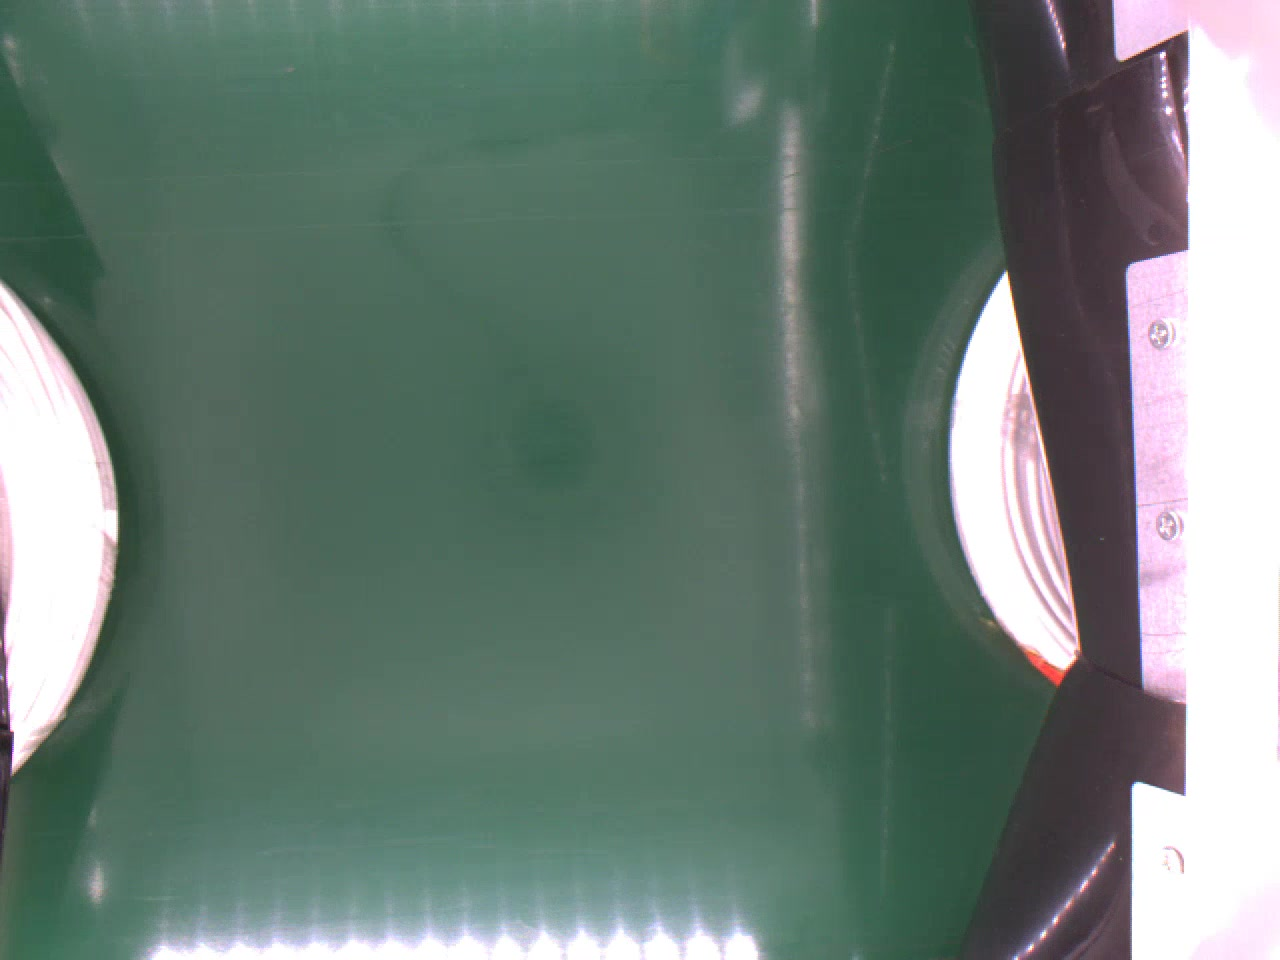white: (0, 279, 112, 771)
